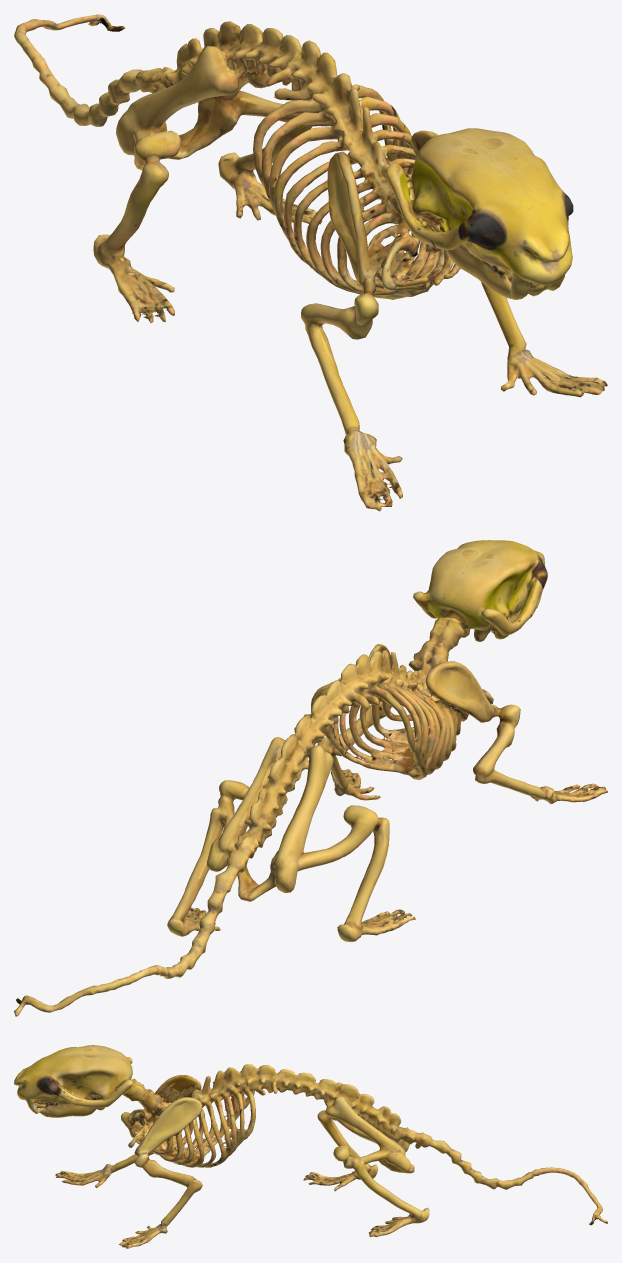
Rendered from ratoOssea.glb.
3 views of the same model, one above another, from view 1: azimuth 30°, elevation 25°; view 2: azimuth 150°, elevation 25°; view 3: azimuth 270°, elevation 25° (orthographic). The views are drawn at different scales.
Visible parts, largest first — view 1: Mesh1.0; view 2: Mesh1.0; view 3: Mesh1.0.
Boxes of the visible parts, x1,y1,x2,y2 form: Mesh1.0: [14, 14, 607, 511]; Mesh1.0: [14, 540, 607, 1016]; Mesh1.0: [14, 1045, 607, 1248].
Bounding box in the file's own units: 0.5848 × 0.5627 × 1.92.
1 material, 1 textured.
